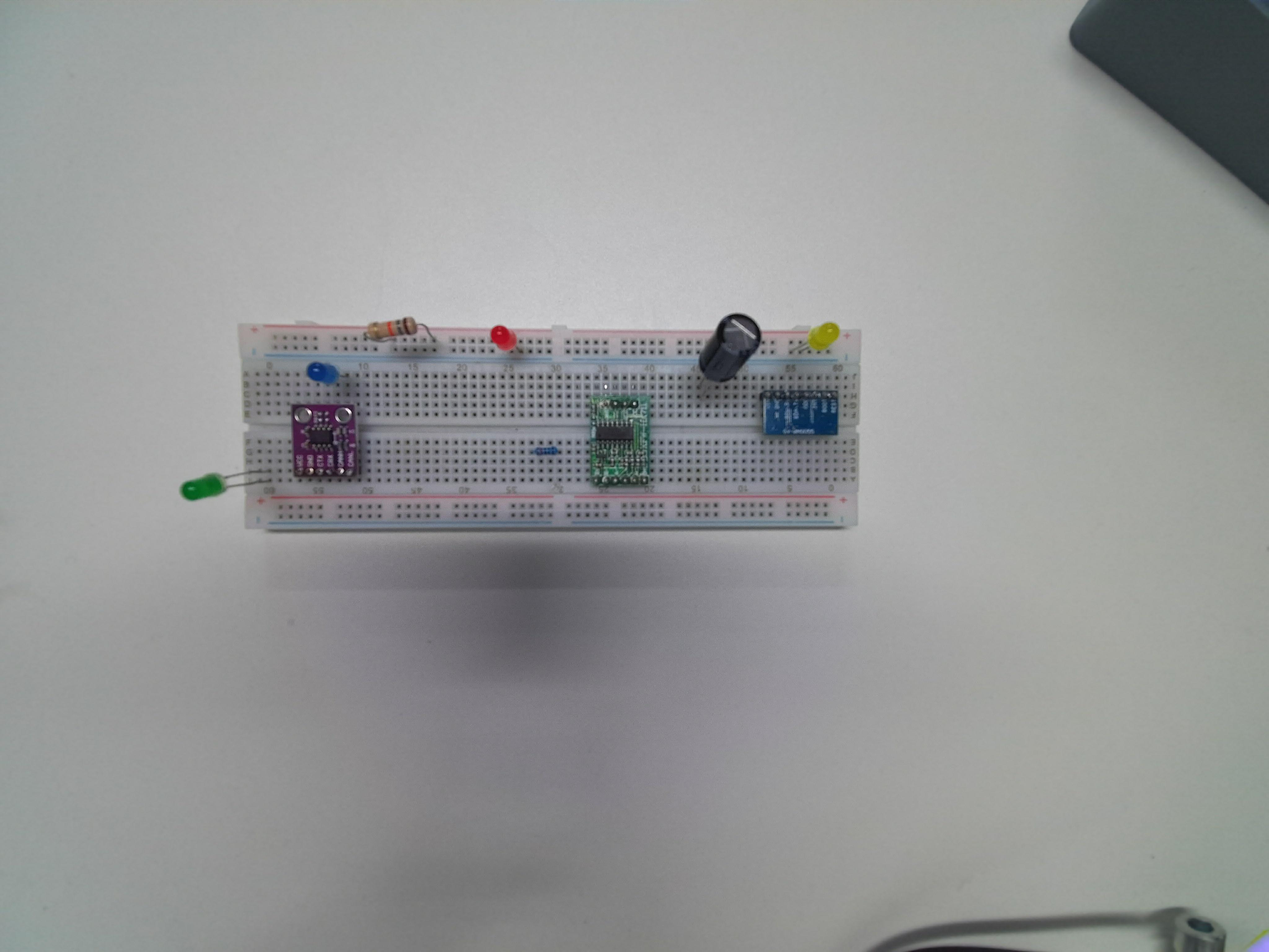base: (235, 315, 863, 532)
blue-board: (762, 387, 841, 439)
blue-led: (301, 357, 341, 392), (527, 442, 561, 456)
capacitor: (696, 313, 766, 387)
green-led: (177, 468, 231, 507)
purple-board: (584, 393, 656, 489), (290, 402, 363, 483)
red-led: (489, 324, 516, 352)
resistor-big: (362, 318, 418, 345)
yellow-led: (808, 322, 840, 354)
